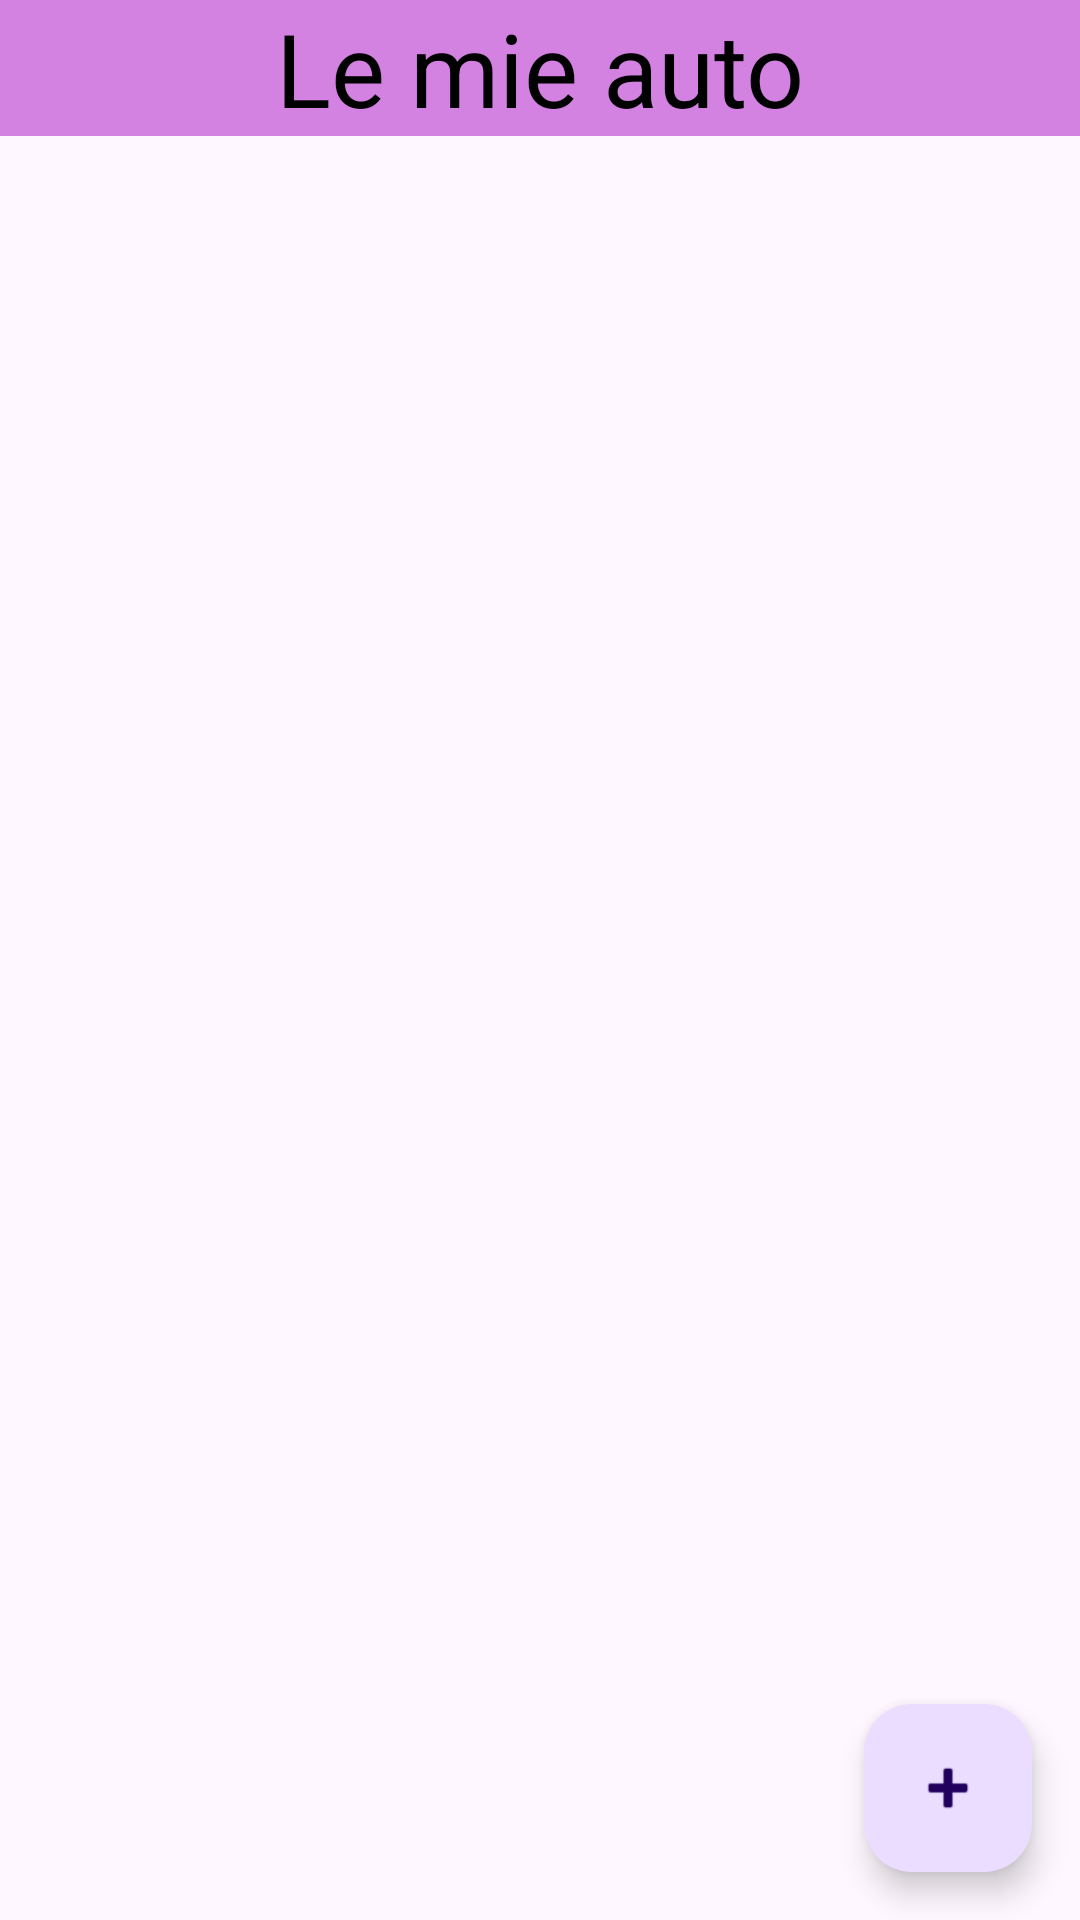

Icons on this 1080*1920 Android screen, each with the point to tap as (x=x, y=y):
Aggiungi Auto: (x=948, y=1788)
